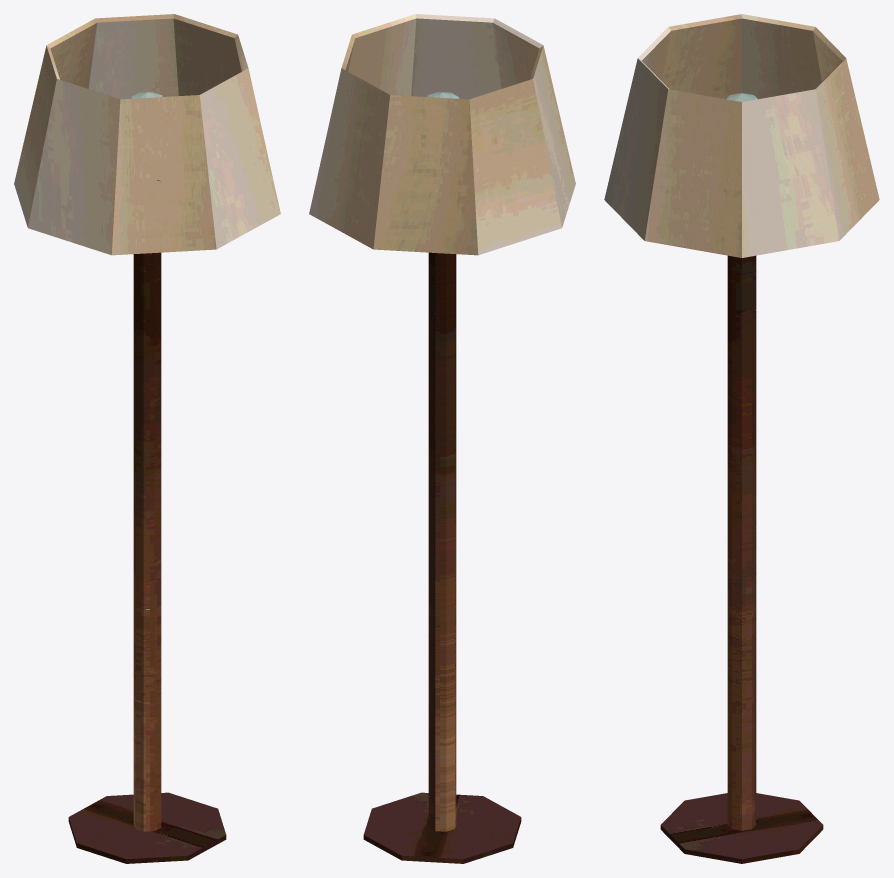
Rendered from lamp.glb.
3 views of the same model, side by side, from view 1: azimuth 30°, elevation 25°; view 2: azimuth 150°, elevation 25°; view 3: azimuth 270°, elevation 25° (orthographic).
Visible parts, largest first — view 1: Lamp; view 2: Lamp; view 3: Lamp.
Part boxes in pixels (<box>): Lamp: <box>14,14,280,863</box>; Lamp: <box>309,14,575,863</box>; Lamp: <box>604,14,879,863</box>.
Bounding box in the file's own units: 0.5759 × 1.78 × 0.5759.
2 materials, 1 textured.
